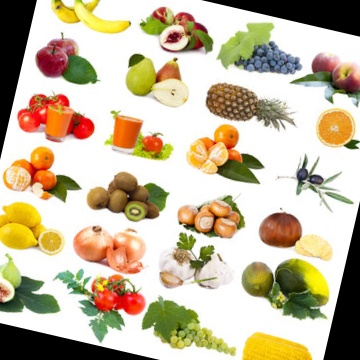Pineapple: (203, 81, 303, 133)
